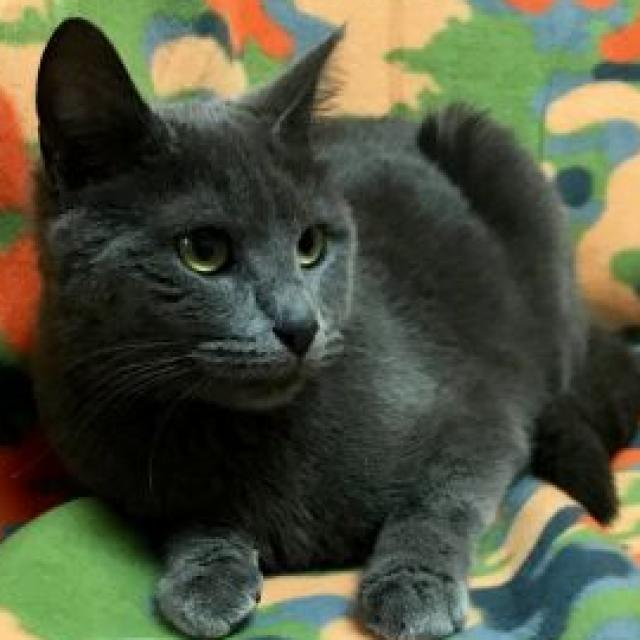Russian Blue: (23, 12, 640, 639)
